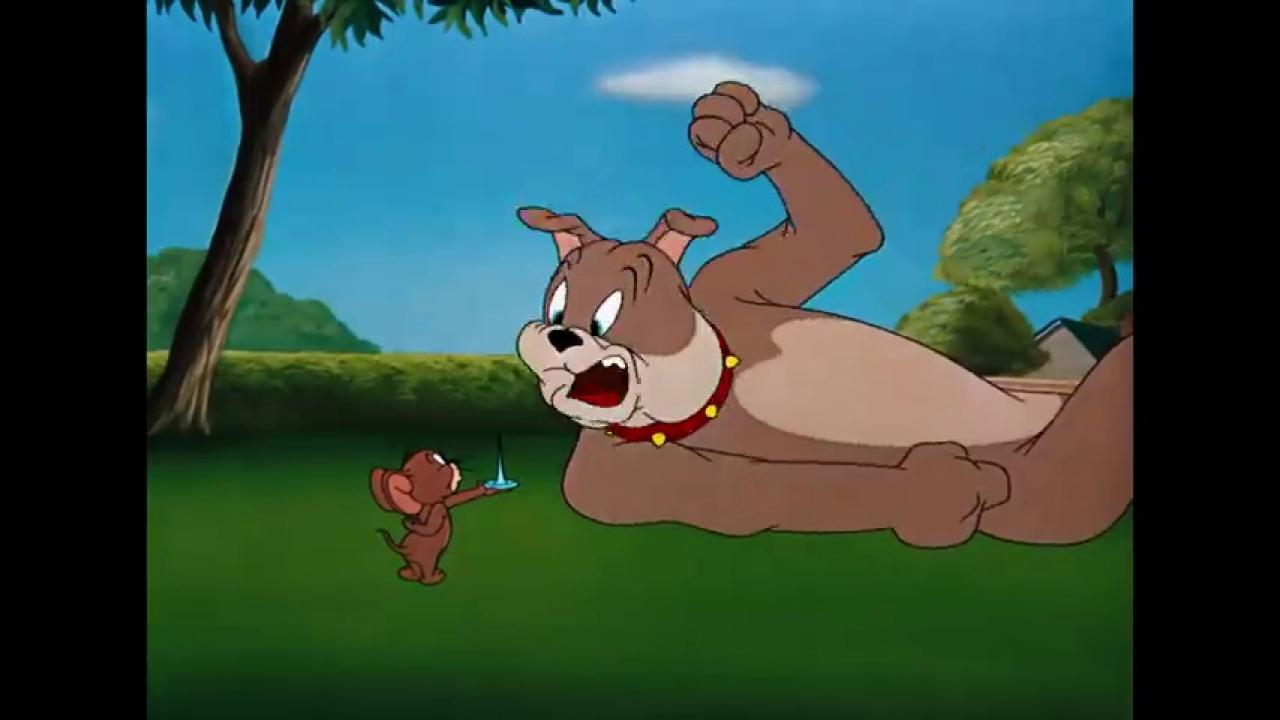Jerry: (366, 444, 498, 586)
